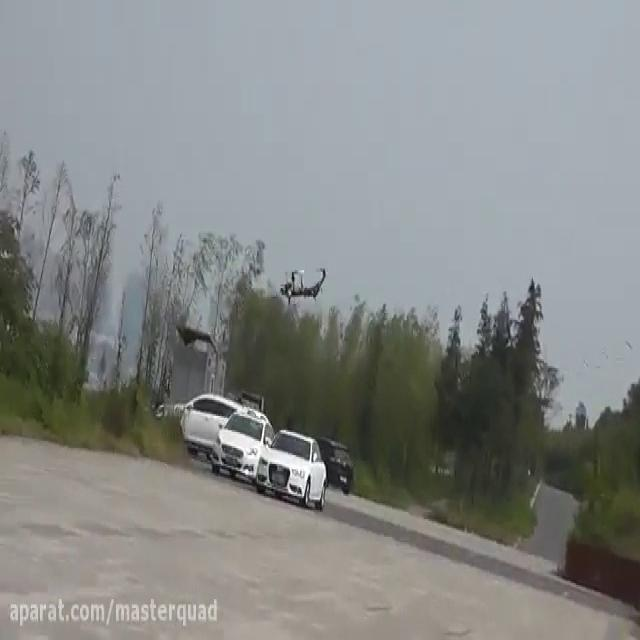drone: (274, 254, 331, 308)
